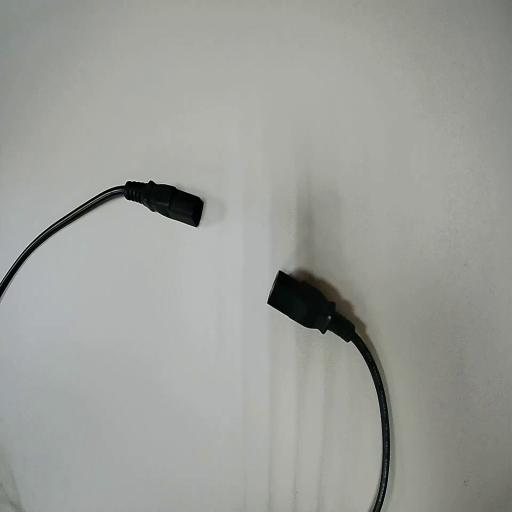wire: (268, 272, 389, 511), (0, 182, 202, 294)
